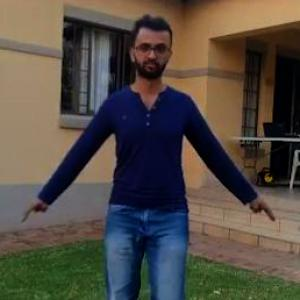land: (68, 70, 220, 299)
